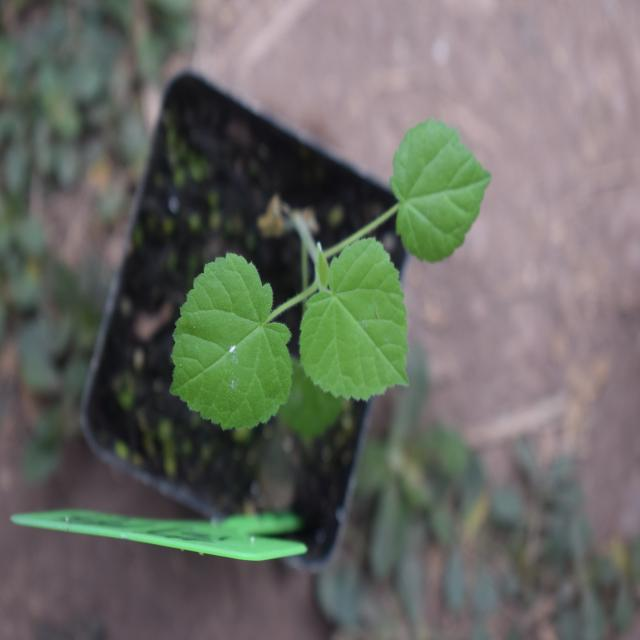abutilon theophrasti: (159, 126, 502, 437)
